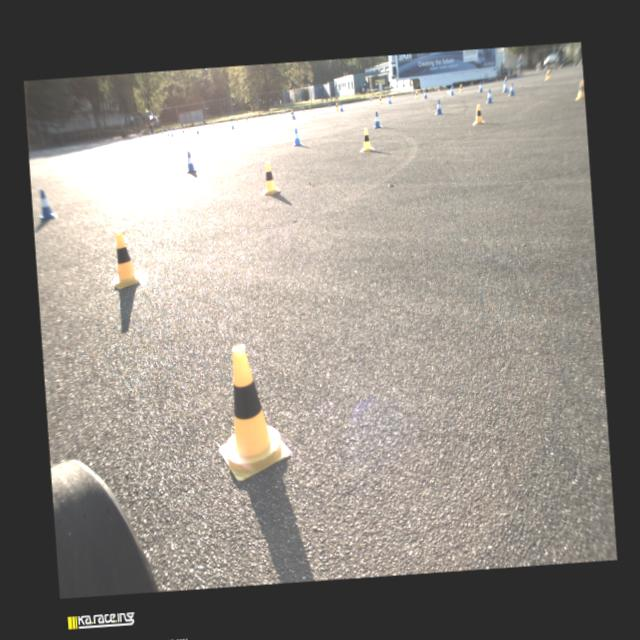blue_cone: (36, 187, 58, 219), (185, 151, 196, 173), (372, 110, 382, 128), (292, 127, 301, 146), (434, 98, 444, 114), (485, 88, 493, 103), (507, 82, 515, 96), (476, 82, 483, 92), (501, 81, 507, 92), (448, 86, 454, 95), (422, 90, 428, 98), (387, 95, 392, 104), (339, 103, 343, 111), (196, 125, 199, 134), (231, 121, 234, 129), (292, 111, 295, 119), (170, 130, 172, 136), (369, 96, 371, 101), (182, 128, 184, 132), (167, 129, 168, 136), (328, 103, 329, 107)
yellow_cone: (212, 342, 292, 482), (108, 231, 140, 289), (260, 160, 280, 194), (358, 126, 374, 152), (471, 103, 485, 124), (574, 78, 584, 100), (544, 69, 550, 80), (377, 95, 382, 104), (414, 90, 418, 99), (458, 84, 462, 92), (336, 102, 338, 110), (290, 109, 292, 117), (236, 116, 238, 124), (246, 115, 248, 122), (338, 100, 340, 106), (308, 105, 310, 110), (437, 86, 439, 90)
